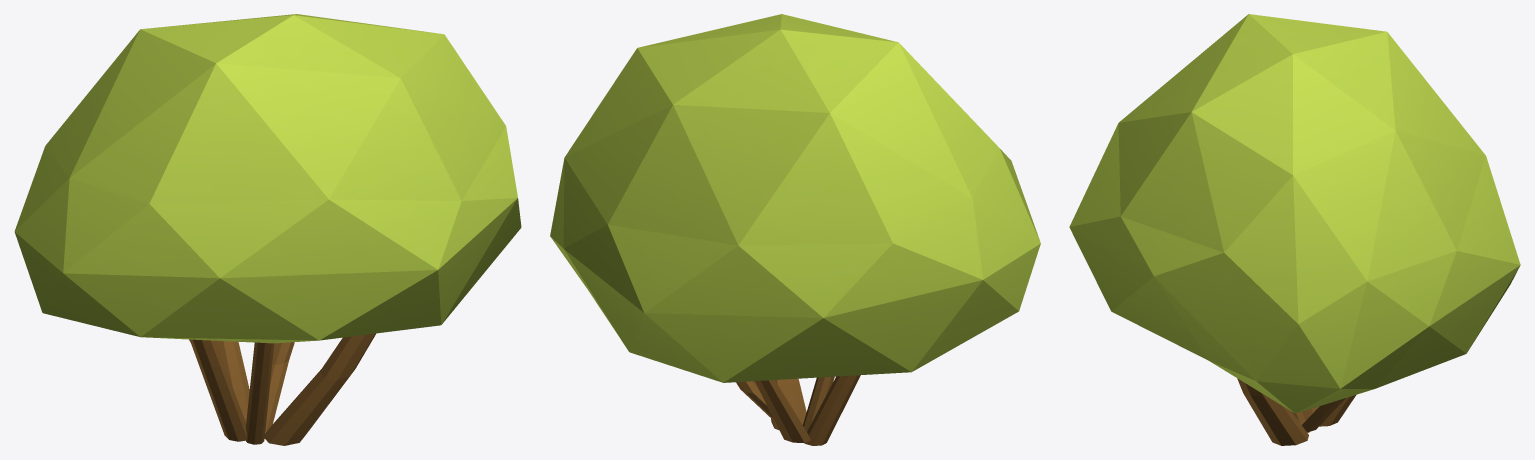
File: Bush001.fbx
The picture shows the model from 3 angles, left to right: view 1: azimuth 30°, elevation 25°; view 2: azimuth 150°, elevation 25°; view 3: azimuth 270°, elevation 25°; orthographic projection. The views are drawn at different scales.
Visible parts, largest first — view 1: Icosphere.005; view 2: Icosphere.005; view 3: Icosphere.005.
Boxes of the visible parts, x1,y1,x2,y2 form: Icosphere.005: [14, 14, 521, 445]; Icosphere.005: [550, 14, 1040, 445]; Icosphere.005: [1069, 14, 1520, 445].
Size of the model in its own units: 318 by 272 by 283.
